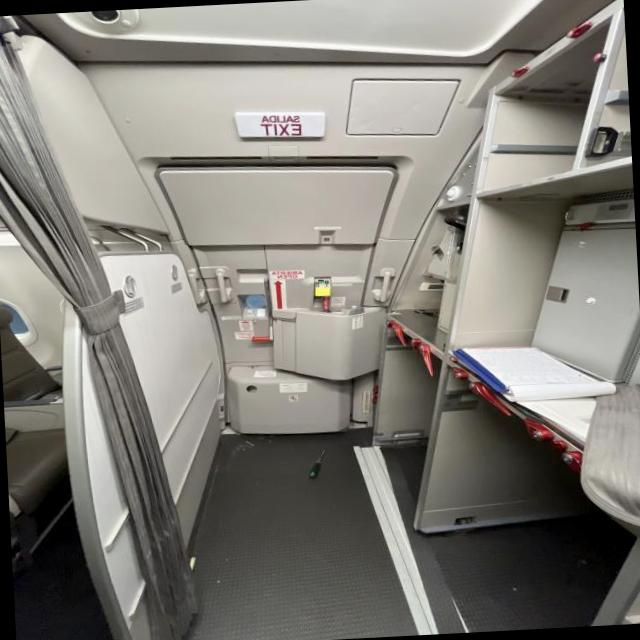dent: (356, 119, 379, 135), (346, 103, 360, 121), (411, 100, 424, 110)
